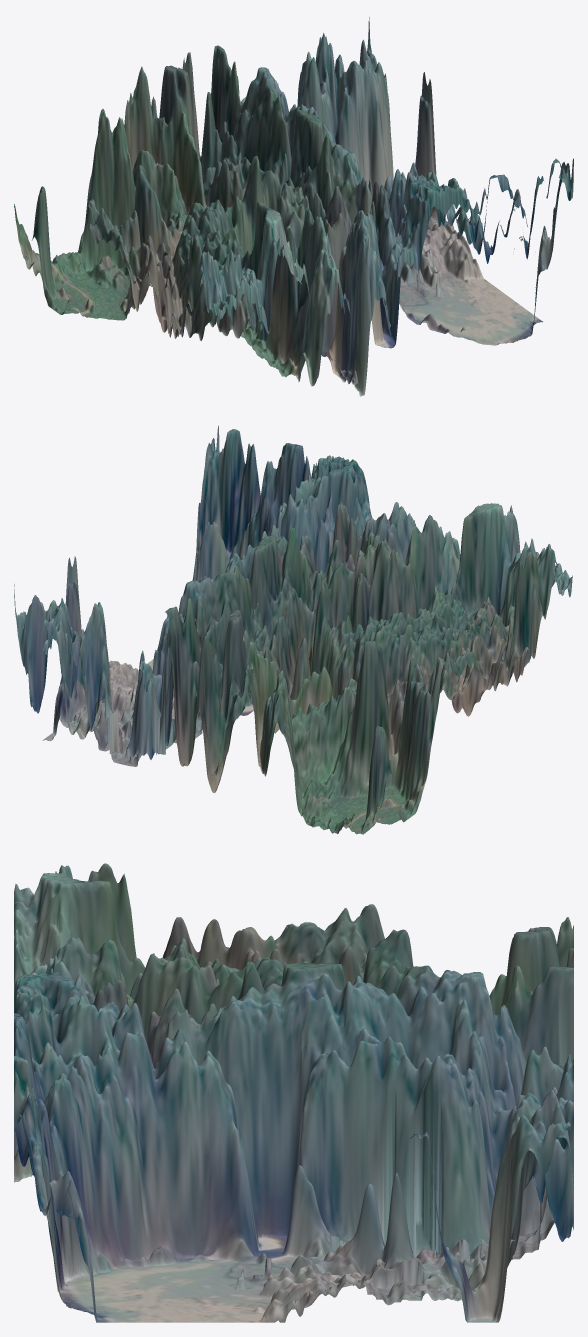
Rendered from dsm_0fe9e8d861_mesh.glb.
The picture shows the model from 3 angles, top to bottom: view 1: azimuth 30°, elevation 25°; view 2: azimuth 150°, elevation 25°; view 3: azimuth 270°, elevation 25°; orthographic projection. The views are drawn at different scales.
Visible parts, largest first — view 1: geometry_0; view 2: geometry_0; view 3: geometry_0.
Boxes of the visible parts, x1,y1,x2,y2 form: geometry_0: [14, 17, 573, 396]; geometry_0: [14, 425, 572, 834]; geometry_0: [14, 863, 573, 1322].
Size of the model in its own units: 2 by 1 by 2.
